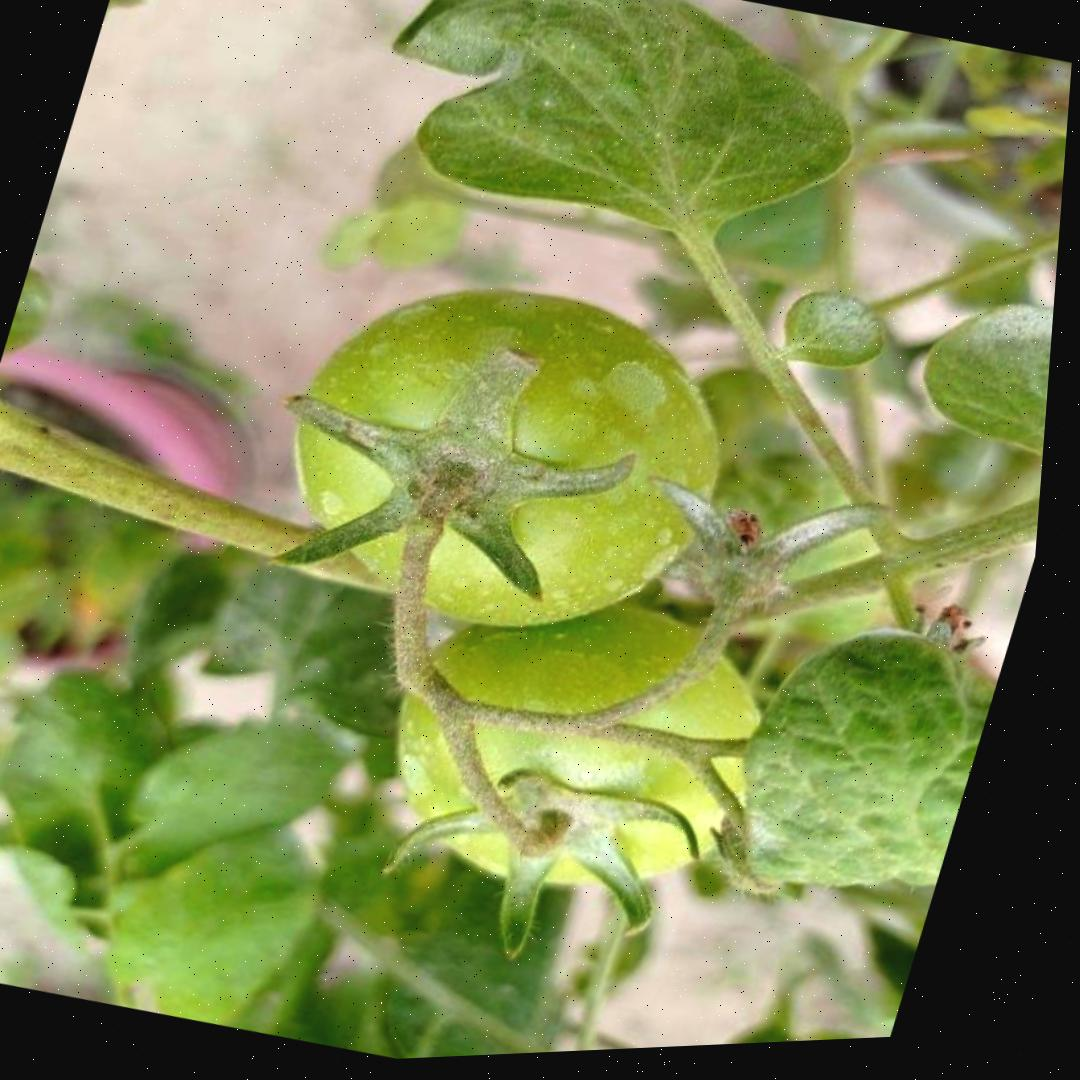mentah: (237, 234, 773, 680), (353, 551, 815, 939)
